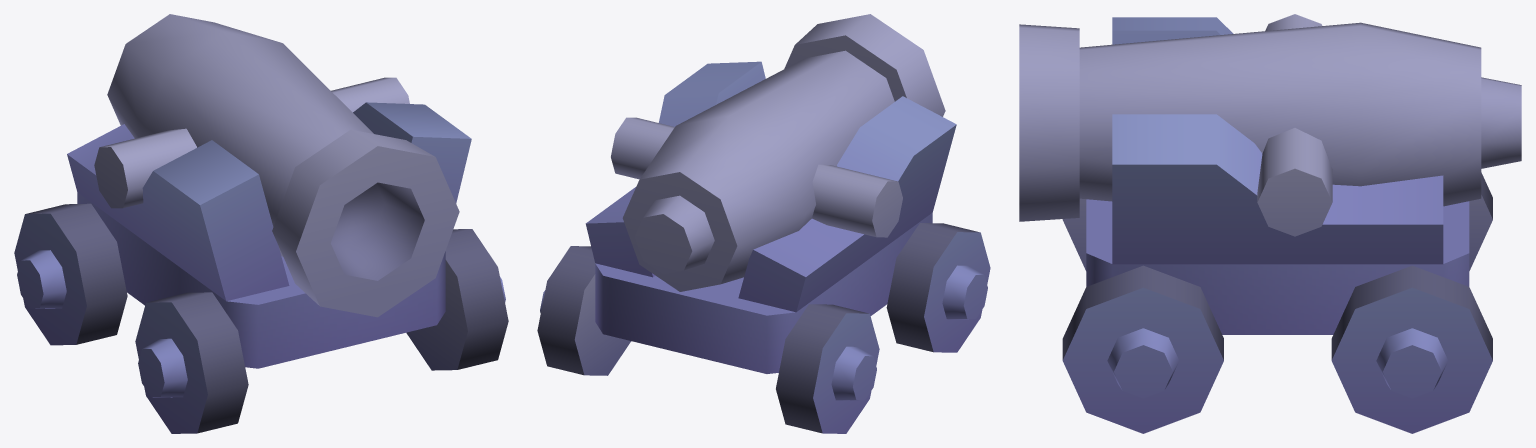
Rendered from cannon-mobile.fbx.
The picture shows the model from 3 angles, left to right: view 1: azimuth 30°, elevation 25°; view 2: azimuth 150°, elevation 25°; view 3: azimuth 270°, elevation 25°; orthographic projection. The views are drawn at different scales.
Visible parts, largest first — view 1: cannon-mobile, Group, Group_1; view 2: cannon-mobile, Group, Group_1; view 3: cannon-mobile, Group_1, Group.
Boxes of the visible parts, left/top/right/bottom form: cannon-mobile: left=14, top=14, right=508, bottom=433; Group: left=67, top=124, right=289, bottom=301; Group_1: left=353, top=102, right=471, bottom=203; cannon-mobile: left=537, top=14, right=990, bottom=433; Group: left=738, top=96, right=956, bottom=312; Group_1: left=585, top=61, right=765, bottom=277; cannon-mobile: left=1019, top=14, right=1521, bottom=433; Group_1: left=1112, top=114, right=1443, bottom=264; Group: left=1112, top=17, right=1233, bottom=44.
Size of the model in its own units: 168 by 138 by 192.
